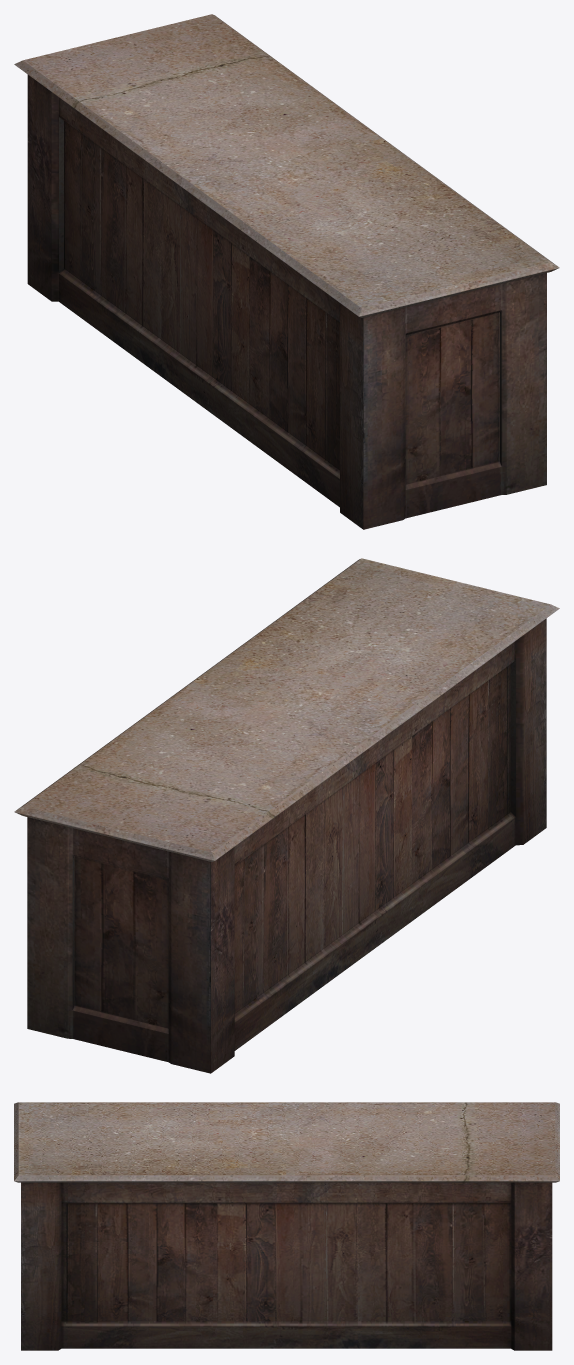
Rendered from bakery_counter3.glb.
The picture shows the model from 3 angles, top to bottom: view 1: azimuth 30°, elevation 25°; view 2: azimuth 150°, elevation 25°; view 3: azimuth 270°, elevation 25°; orthographic projection. The views are drawn at different scales.
Visible parts, largest first — view 1: bakery_counter3; view 2: bakery_counter3; view 3: bakery_counter3.
Part boxes in pixels (box(x1,y1,x2,y2)): bakery_counter3: box(14, 14, 559, 529); bakery_counter3: box(14, 558, 559, 1073); bakery_counter3: box(14, 1102, 559, 1350).
Bounding box in the file's own units: 0.7358 × 0.7808 × 2.19.
1 material, 1 textured.
